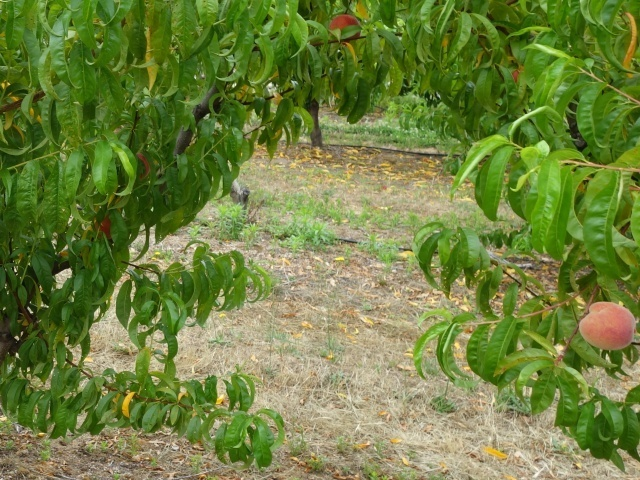peach: (578, 297, 639, 357), (325, 11, 367, 45)
